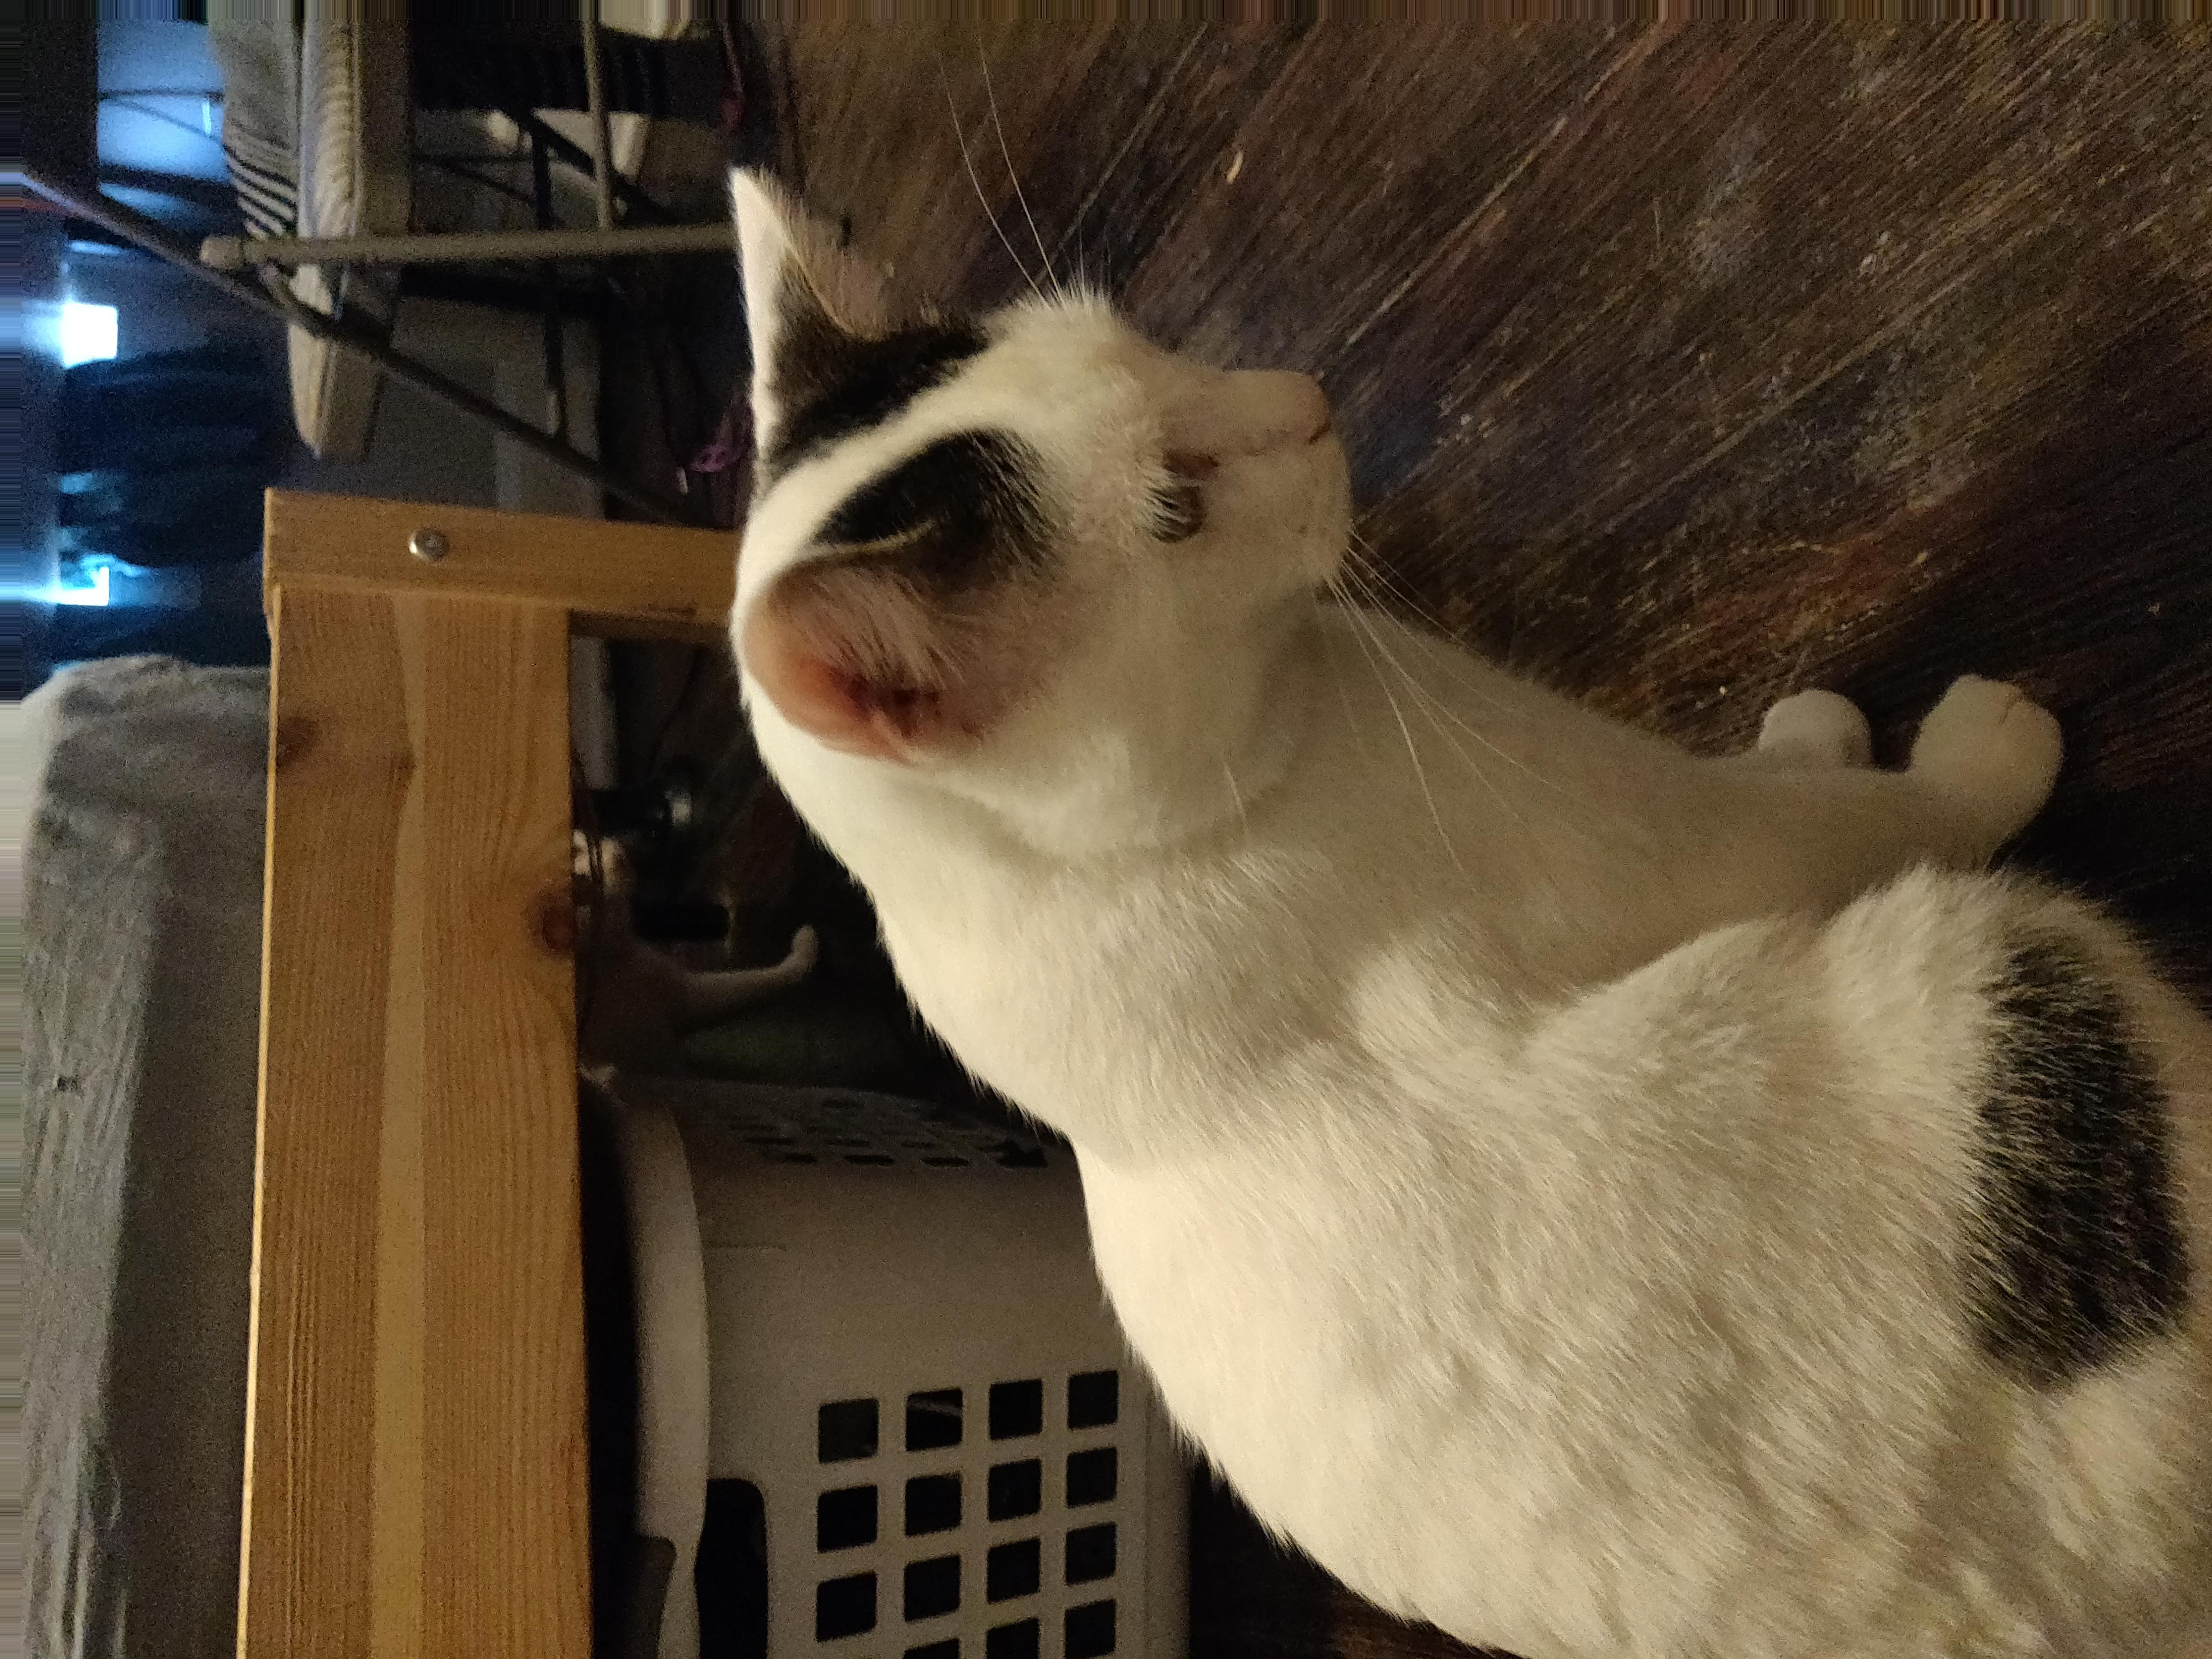cat: (728, 155, 2212, 1659)
